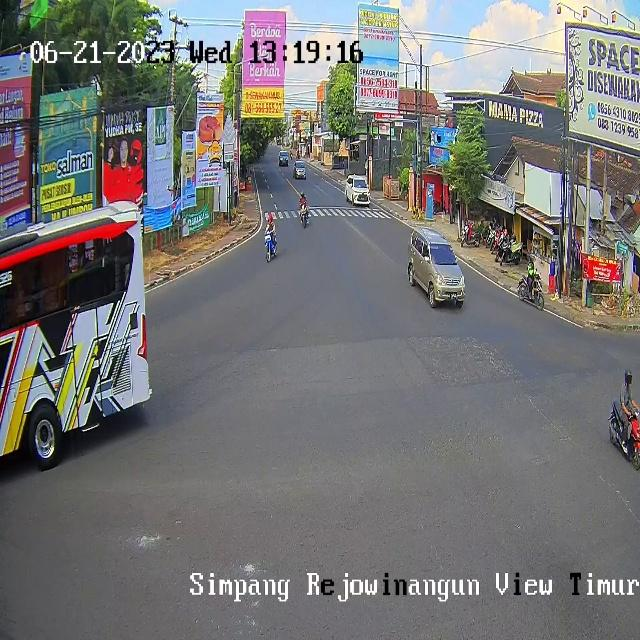bus: (608, 399, 640, 470), (517, 273, 545, 311), (264, 230, 278, 261), (300, 201, 308, 227)
car: (0, 199, 152, 470)
motorcycle: (409, 225, 466, 309), (345, 176, 371, 206), (294, 160, 307, 179), (279, 150, 289, 166)
